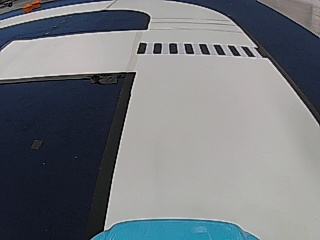CrossWalk: (136, 42, 265, 59)
